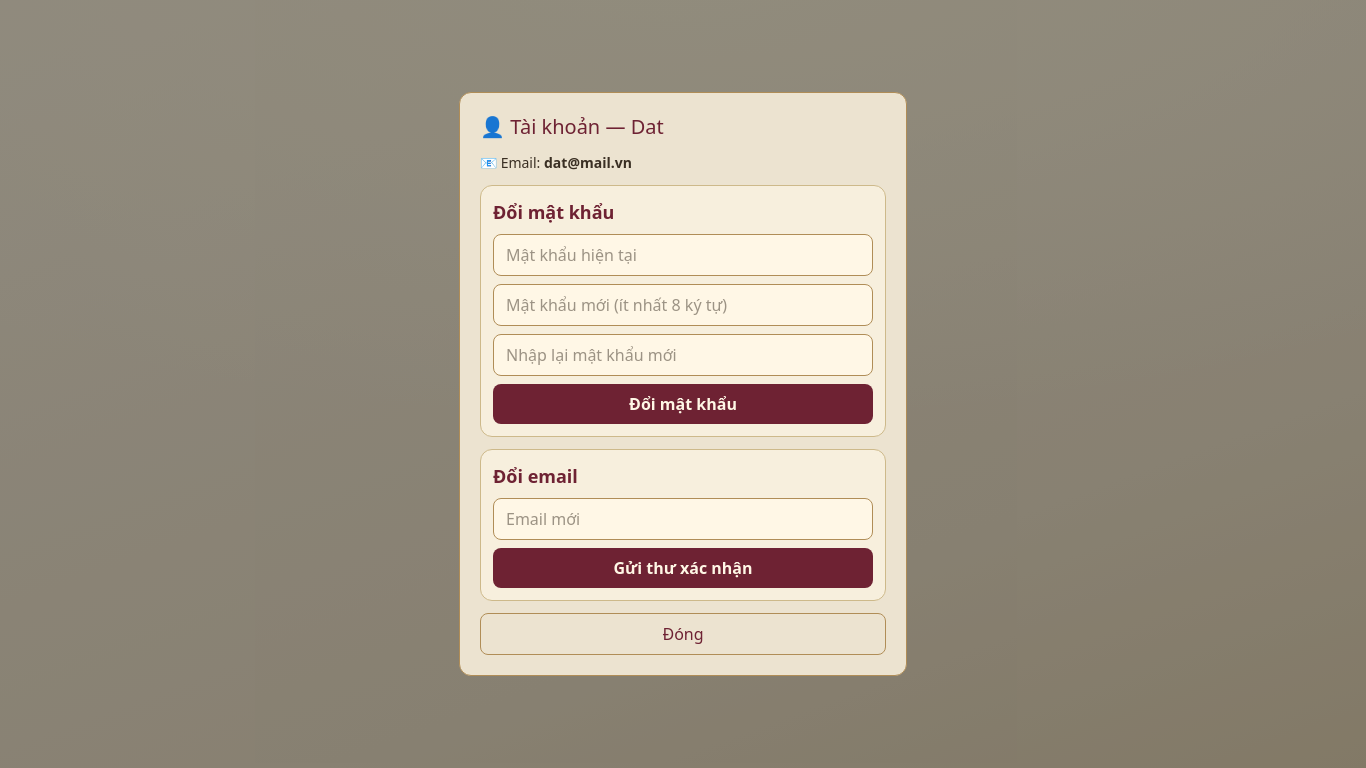
Test: Tài khoản and the banner › an email account changes its password through Supabase and can change its email
Expected: the text "dat@mail.vn" is shown, [544,153,632,172]
Type "sai" into the password field with placeholder "Mật khẩu hiện tại".
click(683, 255); type("sai")  # box [493,234,873,276]
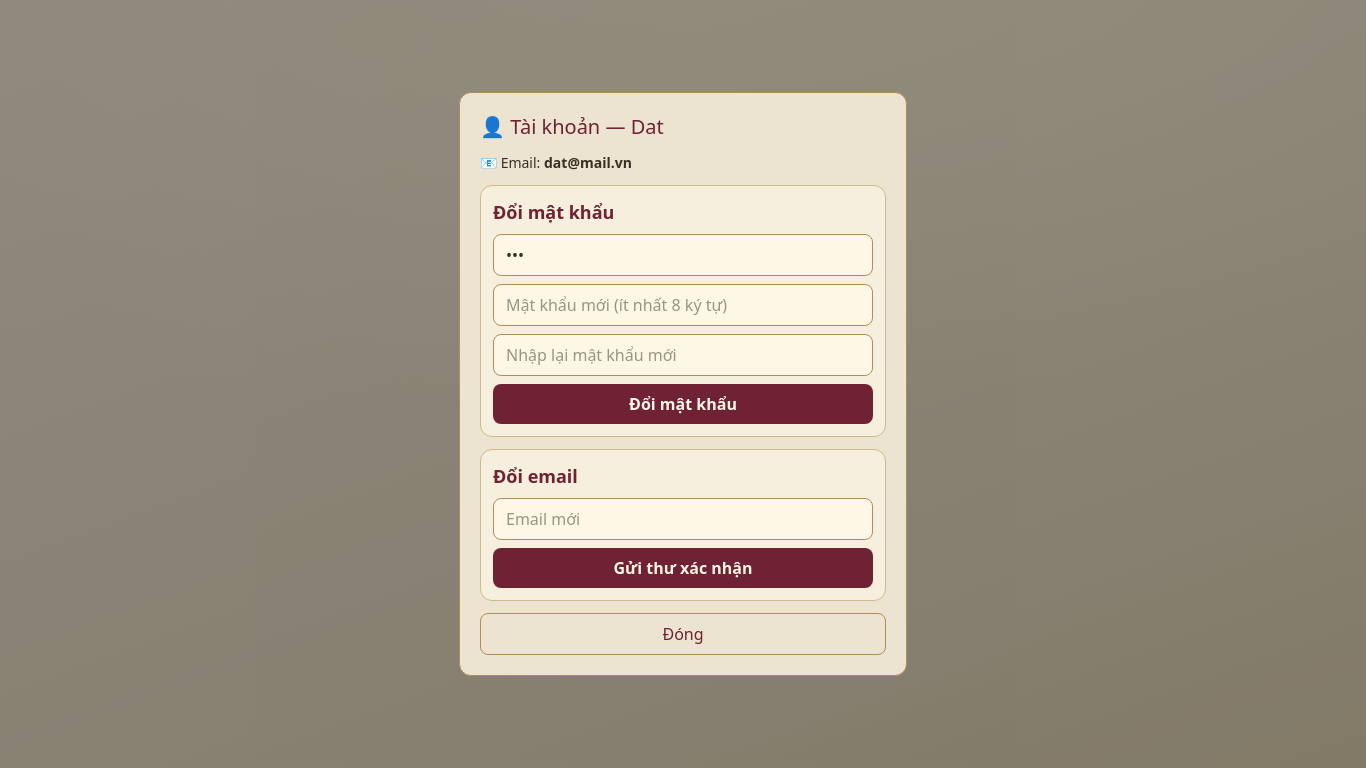
Type "mat-khau-moi" into the password field with placeholder "Mật khẩu mới (ít nhất 8 ký tự)".
click(683, 305); type("mat-khau-moi")  # box [493,284,873,326]
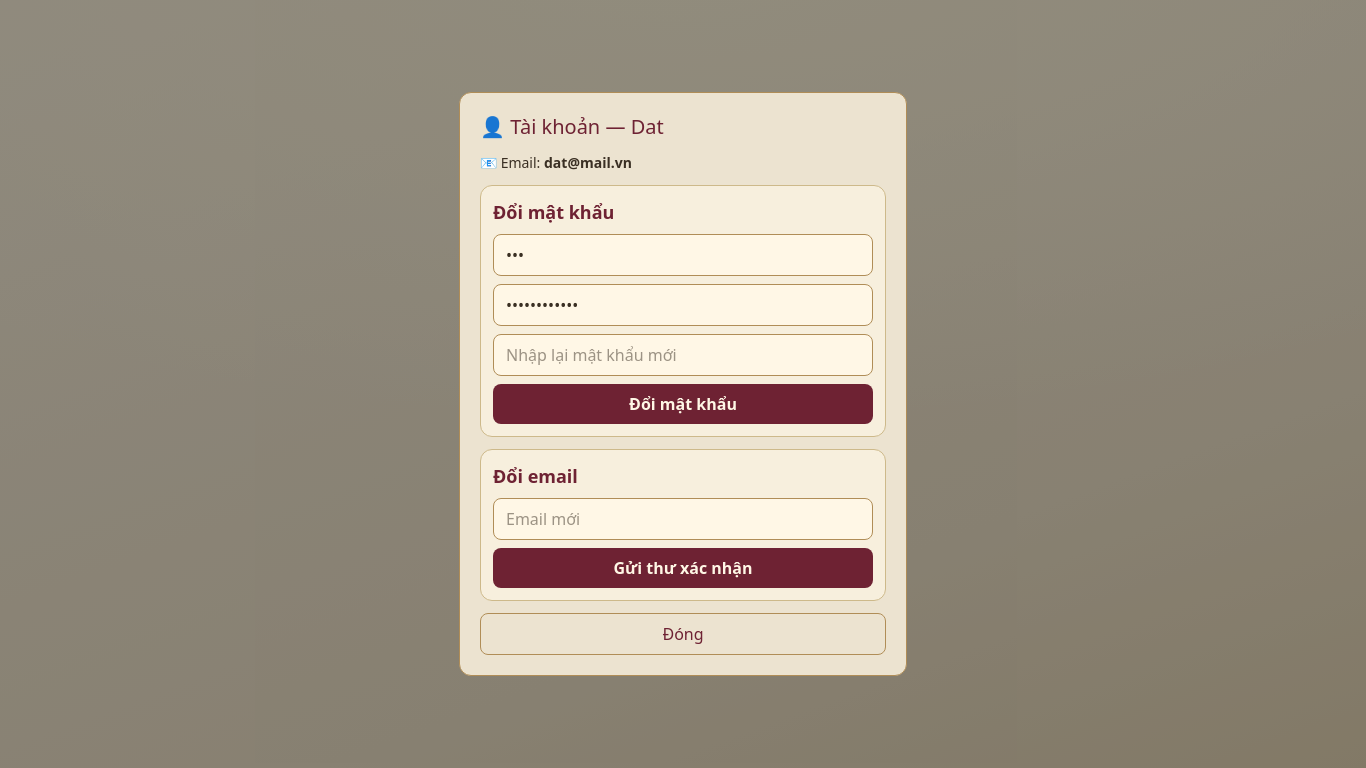
Type "mat-khau-moi" into the password field with placeholder "Nhập lại mật khẩu mới".
click(683, 355); type("mat-khau-moi")  # box [493,334,873,376]
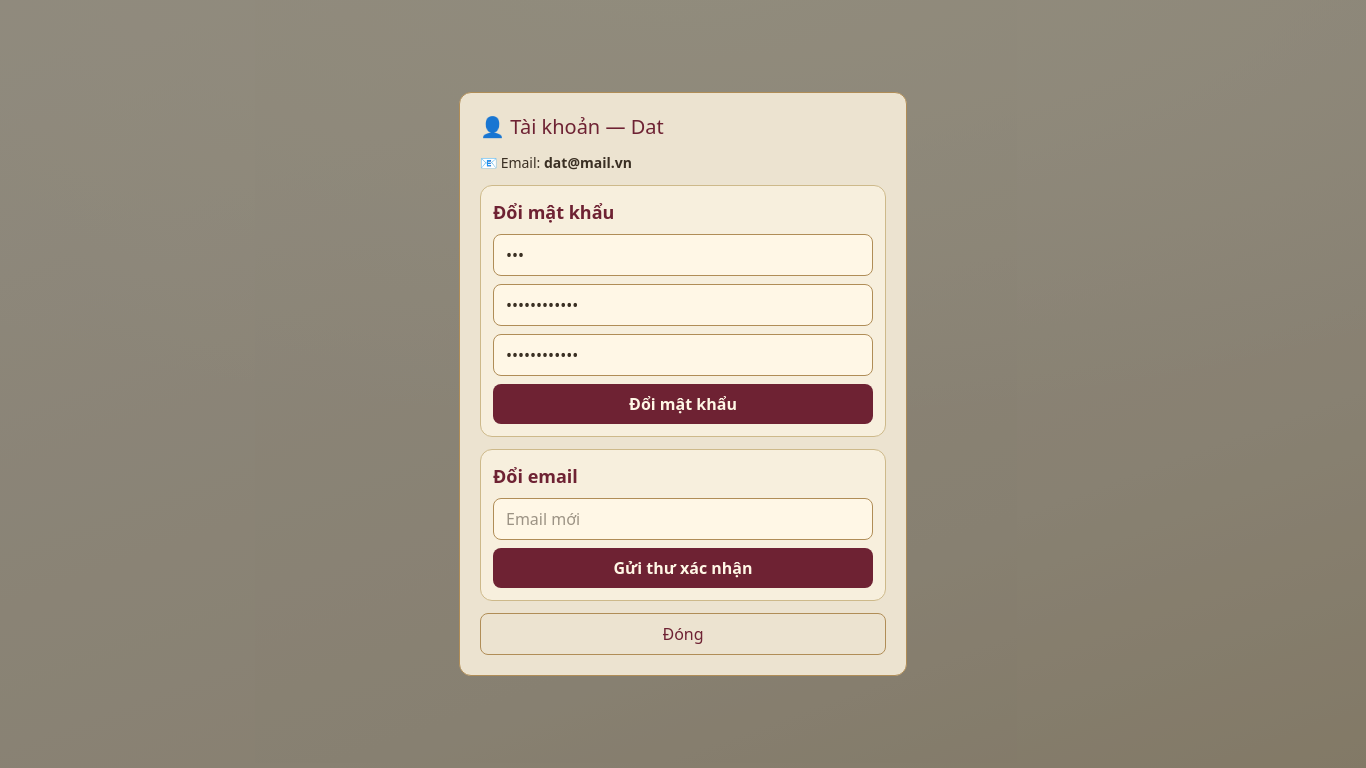
Submit the form with placeholder "Mật khẩu hiện tại", box [480,185,886,437]
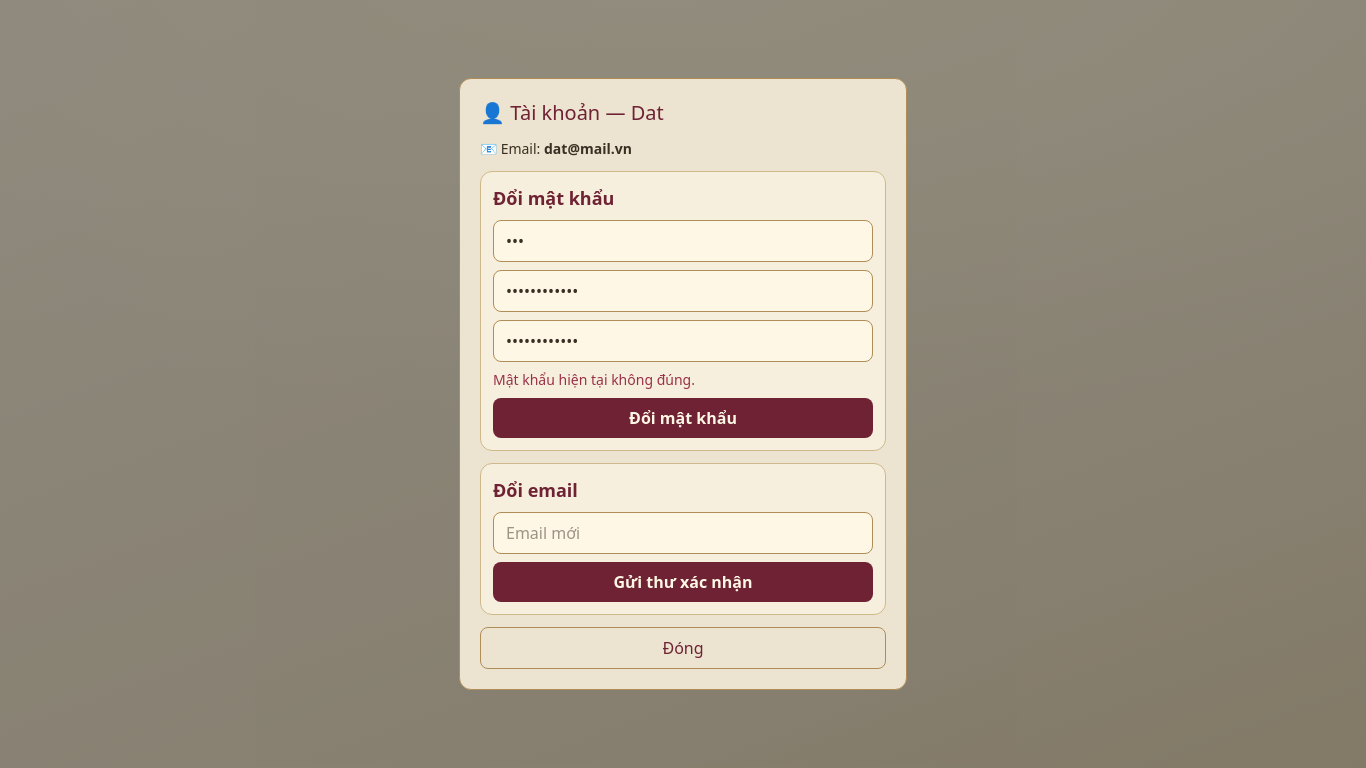
Expected: the field with placeholder "Email mới" is shown, [493,512,873,554]
Now the message reads "Mật khẩu hiện tại không đúng.", box [493,370,695,389]
